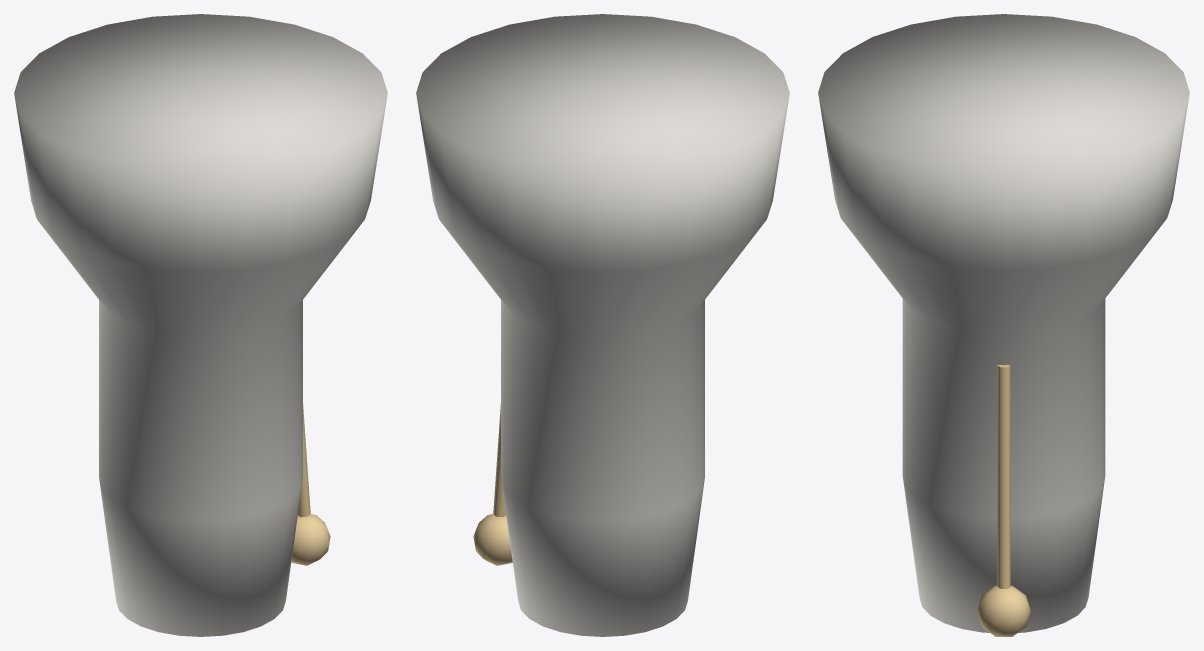
File: pull_chain_light_socket.glb
3 renders of one model, left to right at view 1: azimuth 30°, elevation 25°; view 2: azimuth 150°, elevation 25°; view 3: azimuth 270°, elevation 25°, orthographic.
Visible parts, largest first — view 1: pull_chain_light_socket_socket, pull_chain_light_socket_pull, pull_chain_light_socket_chain; view 2: pull_chain_light_socket_socket, pull_chain_light_socket_pull, pull_chain_light_socket_chain; view 3: pull_chain_light_socket_socket, pull_chain_light_socket_chain, pull_chain_light_socket_pull.
Part boxes in pixels (<box>): pull_chain_light_socket_socket: <box>14,14,387,636</box>; pull_chain_light_socket_pull: <box>291,514,330,565</box>; pull_chain_light_socket_chain: <box>298,404,310,517</box>; pull_chain_light_socket_socket: <box>416,14,789,636</box>; pull_chain_light_socket_pull: <box>473,514,512,565</box>; pull_chain_light_socket_chain: <box>493,404,505,517</box>; pull_chain_light_socket_socket: <box>818,14,1189,632</box>; pull_chain_light_socket_chain: <box>997,365,1010,588</box>; pull_chain_light_socket_pull: <box>977,585,1030,636</box>.
Size of the model in its own units: 0.11 by 0.165 by 0.11.
